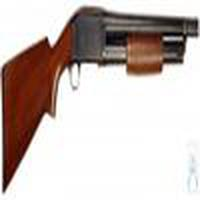gun: (1, 8, 199, 171)
